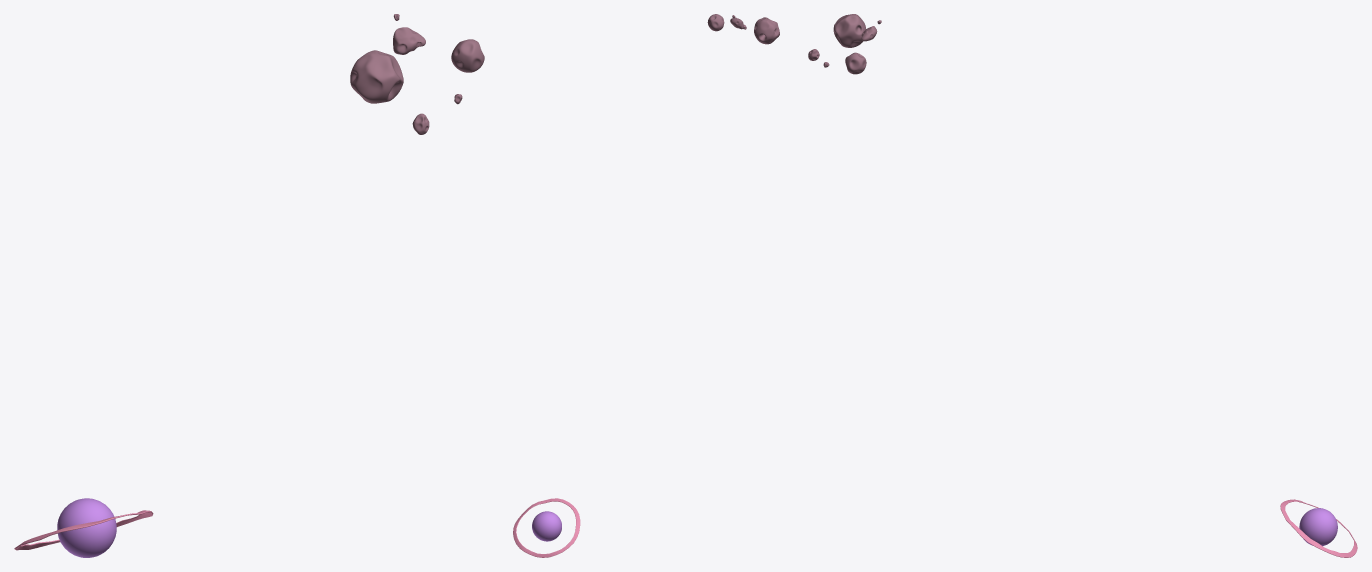
The model's file is сцена игра астероиды.fbx.
3 renders of one model, left to right at view 1: azimuth 30°, elevation 25°; view 2: azimuth 150°, elevation 25°; view 3: azimuth 270°, elevation 25°, orthographic. The views are drawn at different scales.
Parts seen in each view (by area): view 1: Sphere.008, Sphere.012, Circle.002, Sphere.014, Sphere.011; view 2: Circle.002, Sphere.008, Sphere.012; view 3: Sphere.008, Sphere.012.
Boxes of the visible parts, x1,y1,x2,y2 form: Sphere.008: (57,498,116,557); Sphere.012: (350,50,403,103); Circle.002: (14,510,153,550); Sphere.014: (451,39,484,72); Sphere.011: (393,27,425,54); Circle.002: (513,498,580,557); Sphere.008: (532,511,561,541); Sphere.012: (754,17,779,44); Sphere.008: (1299,508,1337,546); Sphere.012: (833,14,865,47).
Bounding box in the file's own units: 1597 × 7886 × 7537.
